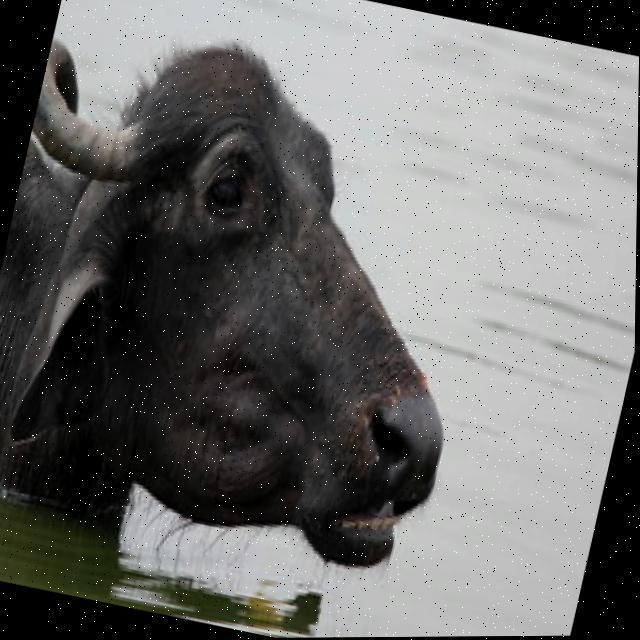Buffalo: (0, 0, 525, 594)
